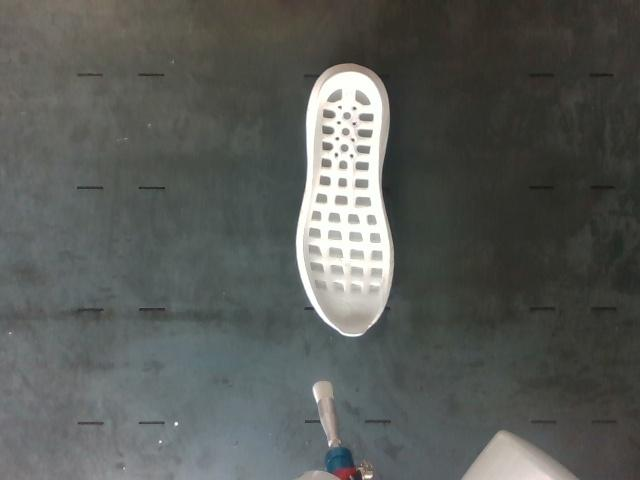shoes: (303, 72, 390, 335)
